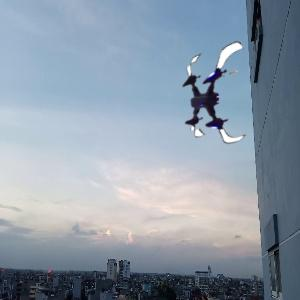drone: (166, 51, 266, 151)
